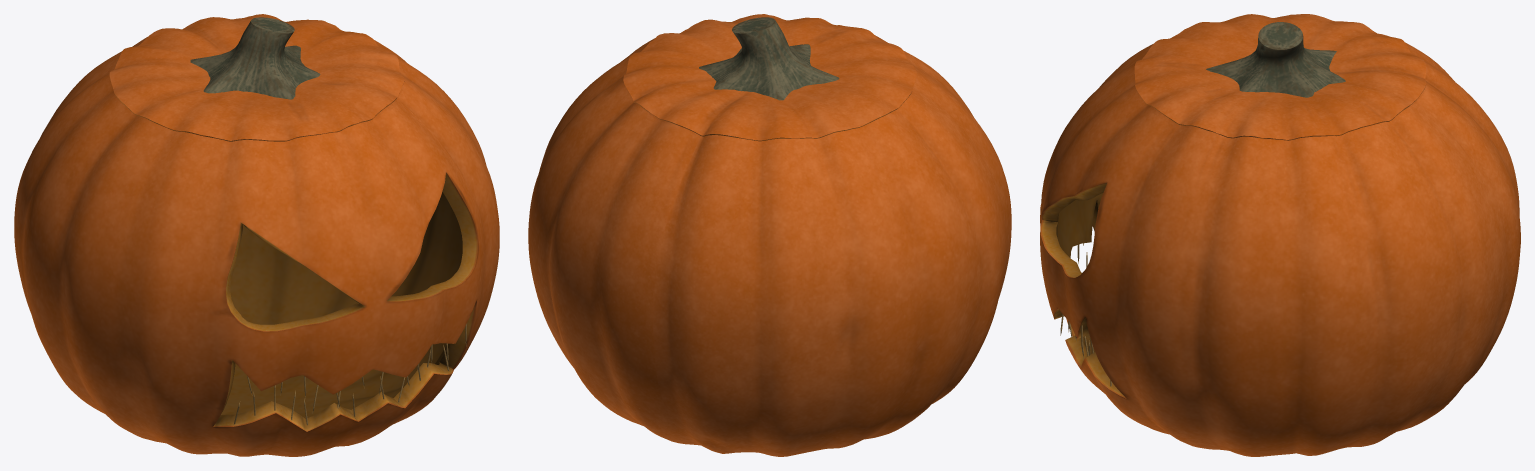
Rendered from pumkin.gltf.
3 views of the same model, side by side, from view 1: azimuth 30°, elevation 25°; view 2: azimuth 150°, elevation 25°; view 3: azimuth 270°, elevation 25° (orthographic).
Visible parts, largest first — view 1: Body_lp, BodyTop_lp, Sphere.001_lp; view 2: Body_lp, BodyTop_lp, Sphere.001_lp; view 3: Body_lp, BodyTop_lp, Sphere.001_lp.
Part boxes in pixels (x1,y1,x2,y2): Body_lp: (14, 37, 499, 456); BodyTop_lp: (109, 14, 404, 141); Sphere.001_lp: (190, 17, 320, 99); Body_lp: (528, 35, 1011, 456); BodyTop_lp: (623, 14, 916, 141); Sphere.001_lp: (699, 17, 839, 100); Body_lp: (1040, 30, 1520, 456); BodyTop_lp: (1134, 14, 1426, 140); Sphere.001_lp: (1206, 22, 1345, 97).
Bounding box in the file's own units: 0.3815 × 0.3439 × 0.3817.
Materials: 1 (1 with a texture image).
